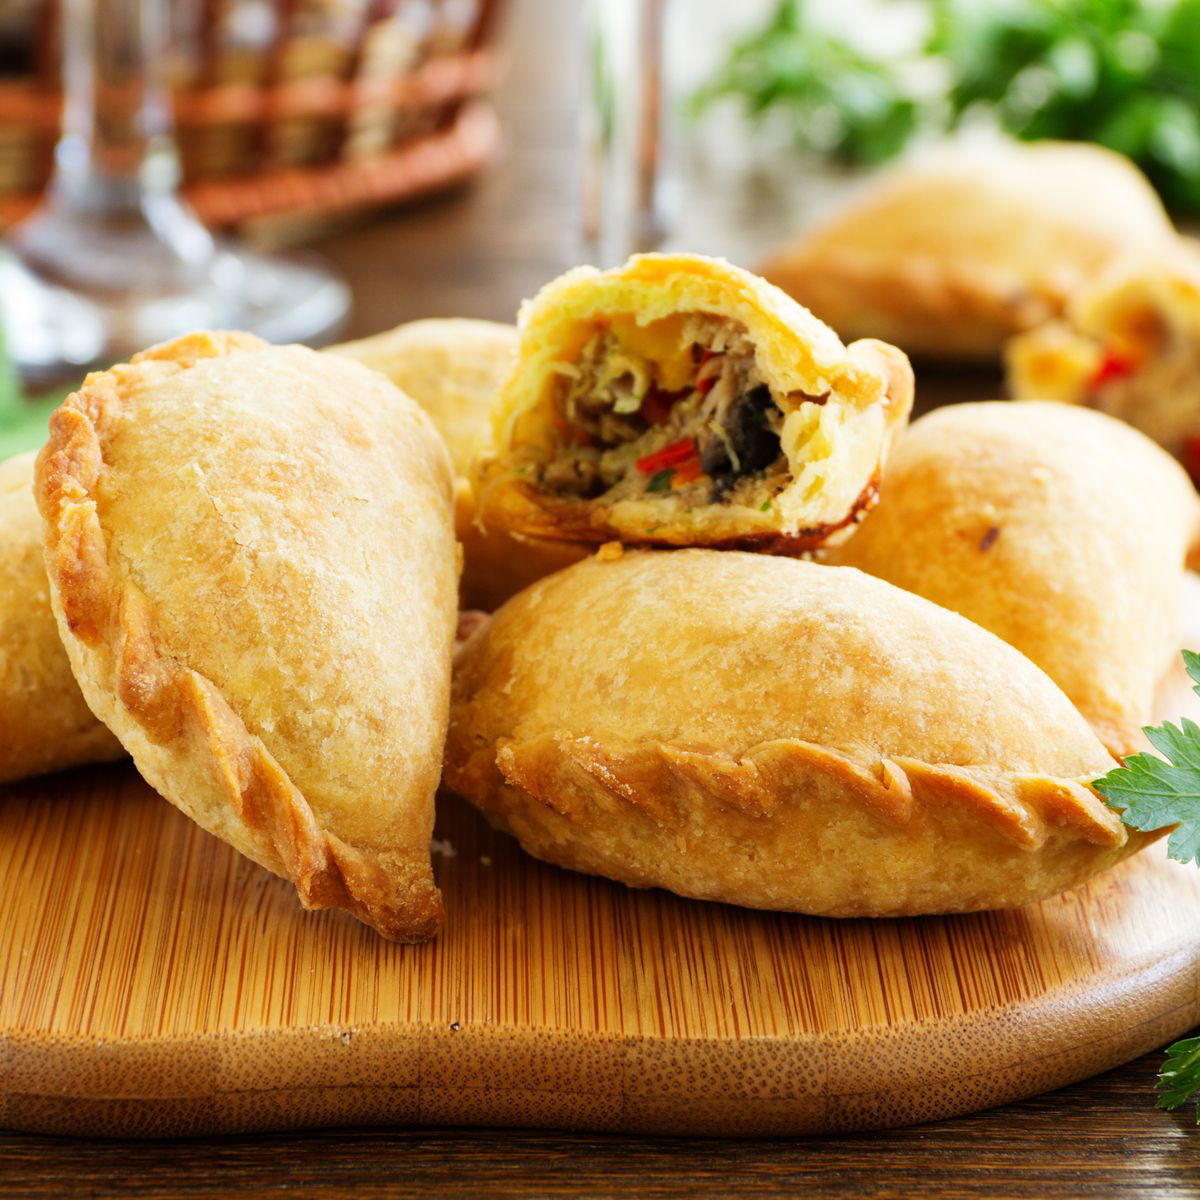Curry Puff: (32, 271, 491, 930), (432, 552, 1138, 925), (462, 235, 957, 551), (799, 373, 1187, 713)
